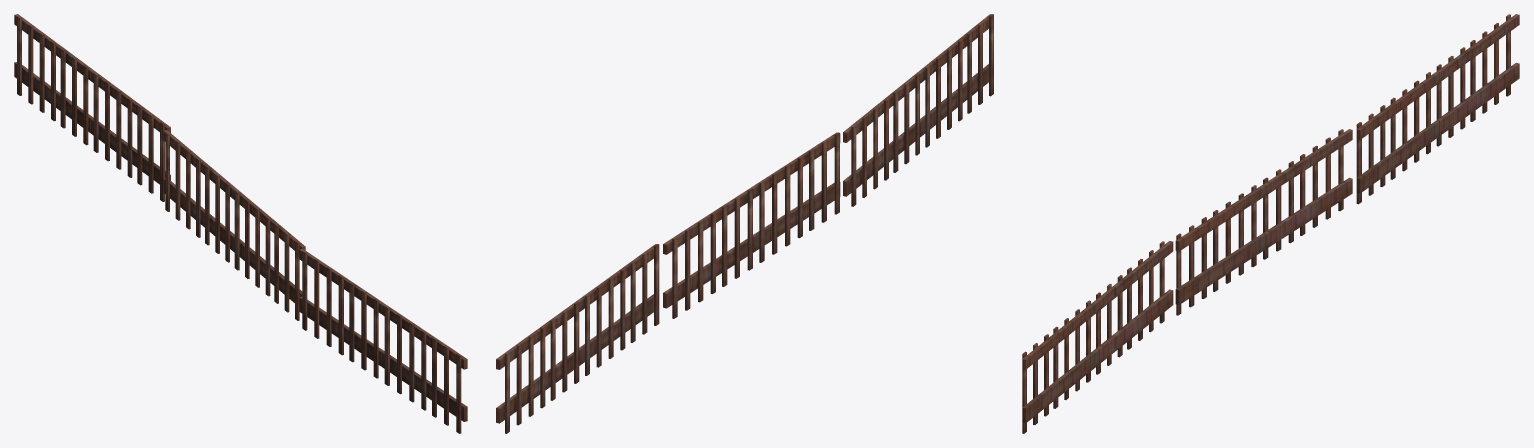
Rendered from B5_Fences_00.FBX.
3 renders of one model, left to right at view 1: azimuth 30°, elevation 25°; view 2: azimuth 150°, elevation 25°; view 3: azimuth 330°, elevation 25°, orthographic. The views are drawn at different scales.
Parts seen in each view (by area): view 1: B5_Fences; view 2: B5_Fences; view 3: B5_Fences.
Boxes of the visible parts, x1,y1,x2,y2 form: B5_Fences: (14,14,467,433); B5_Fences: (496,14,993,433); B5_Fences: (1022,14,1519,433).
Bounding box in the file's own units: 23.12 × 53.1 × 577.
1 material, 1 textured.
